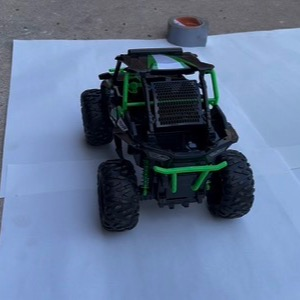polaris: (79, 48, 257, 233)
